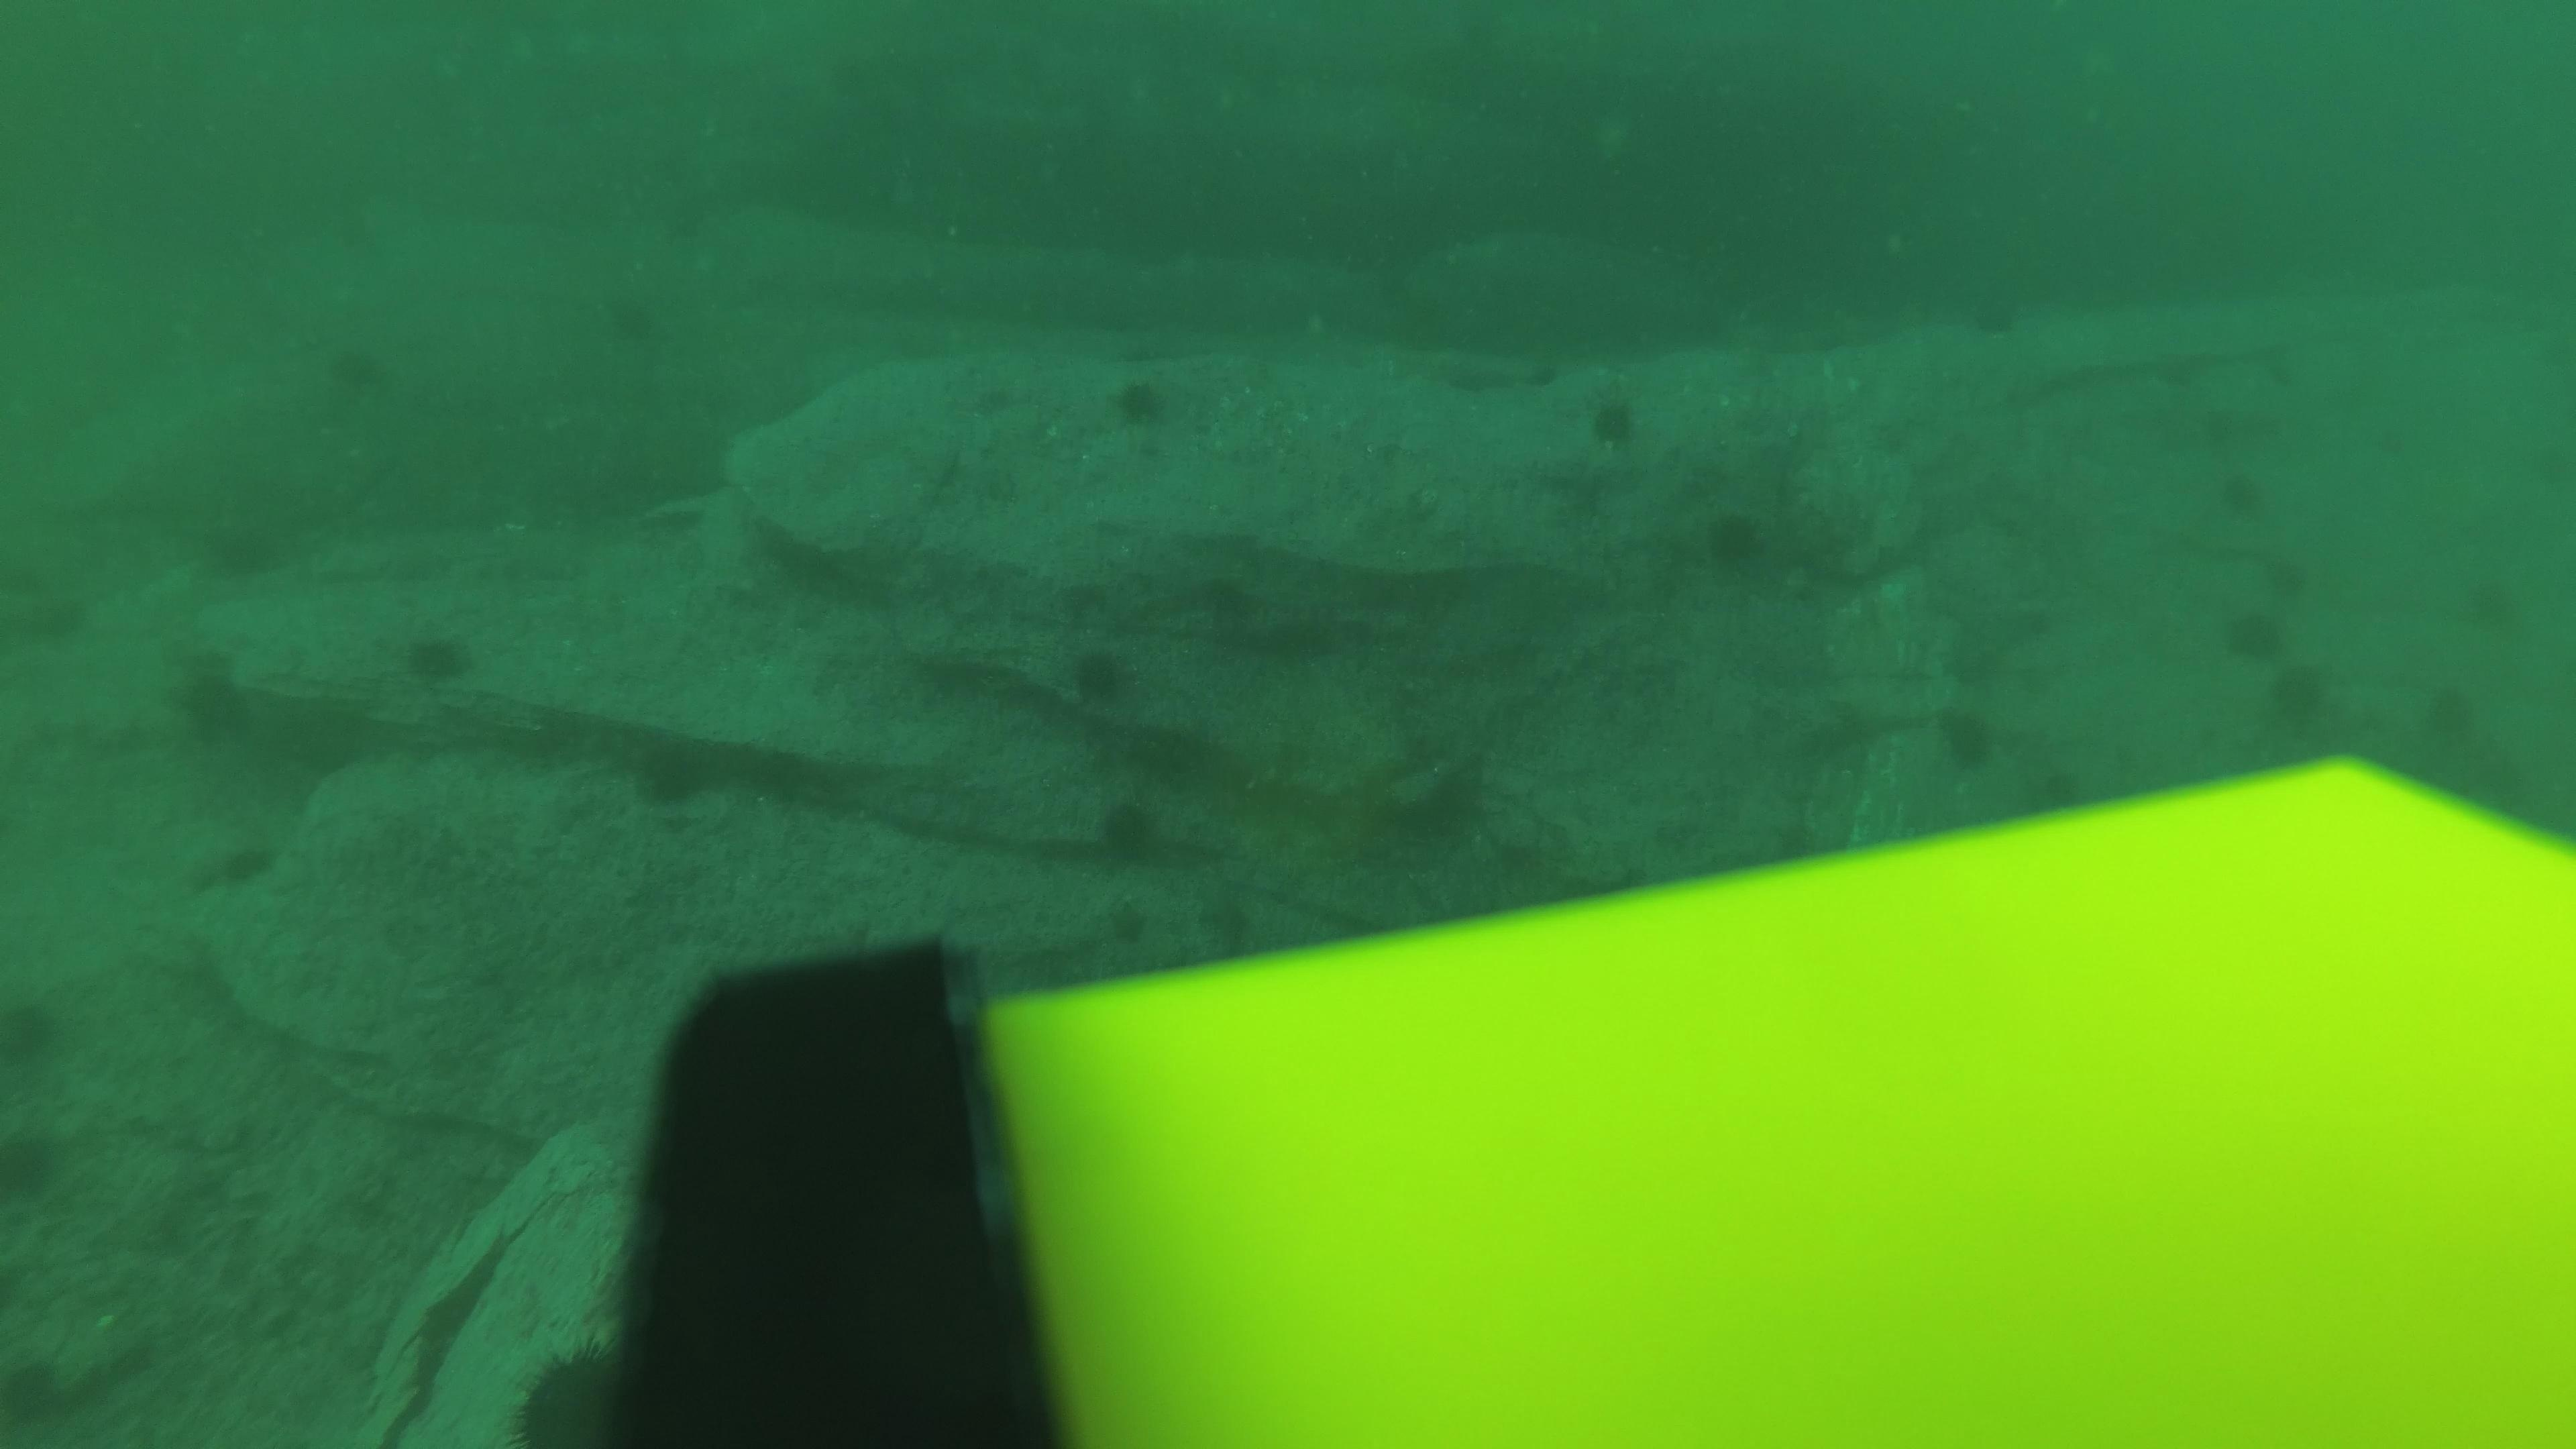echinus: (506, 1341, 639, 1445), (166, 653, 258, 747), (193, 508, 290, 586), (295, 318, 393, 396), (586, 280, 683, 357), (621, 175, 718, 253), (1088, 793, 1171, 870), (0, 1118, 69, 1210), (1959, 287, 2040, 364), (628, 736, 713, 810), (0, 989, 71, 1077), (2258, 658, 2339, 734), (395, 621, 479, 692), (1928, 701, 2005, 777), (1062, 640, 1139, 711), (1698, 506, 1773, 577), (200, 833, 280, 893), (1104, 370, 1177, 435), (2219, 602, 2289, 667), (1582, 387, 1645, 451), (2212, 465, 2270, 522)
starfish: (1104, 892, 1152, 945)
